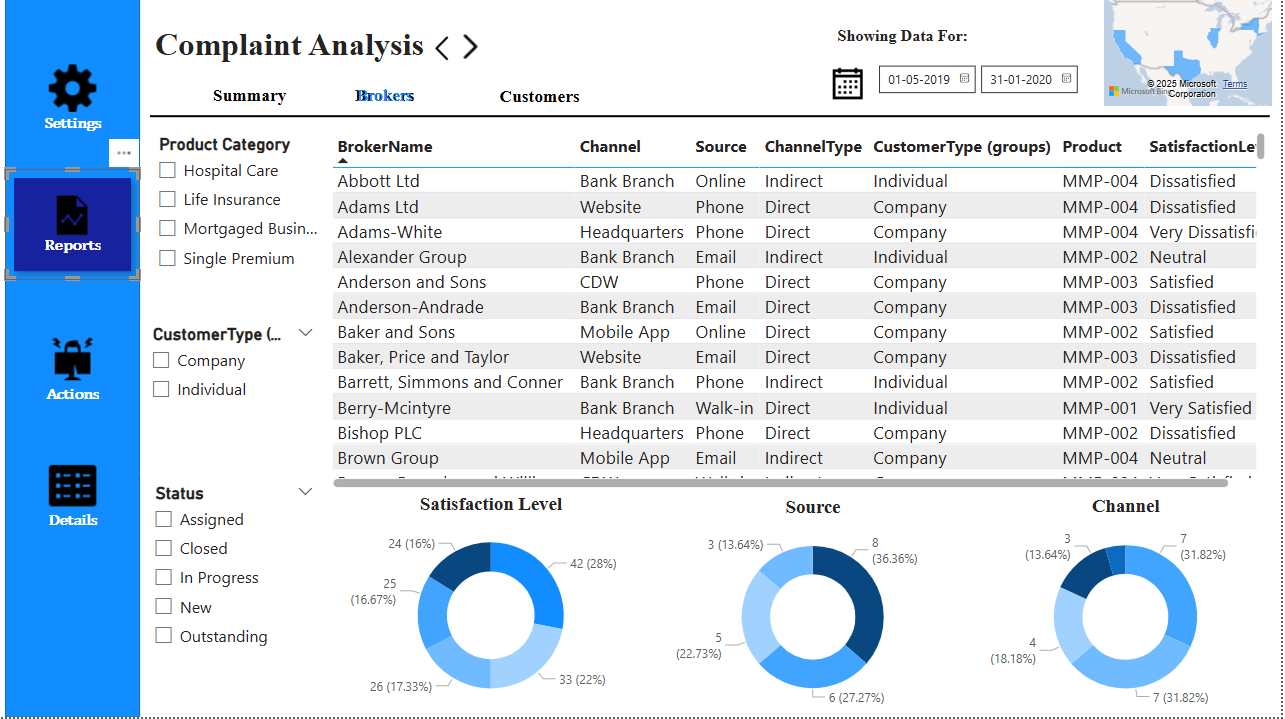

The dashboard page shown, as its layout file describes it:
{"tool":"powerbi","page":{"name":"Brokers","canvas":[1280,720],"ordinal":4},"visuals":[{"type":"shape","box":[9.6,0,134.5,720.4],"z":0},{"type":"actionButton","box":[176.4,80,153.7,41.2],"z":0,"group":"g2"},{"type":"actionButton","box":[177,81,153.7,41.2],"z":0,"group":"g1"},{"type":"textbox","box":[153.7,26.1,289.5,64.5],"z":1000},{"type":"actionButton","box":[310.9,80,153.7,41.2],"z":1000,"group":"g2"},{"type":"actionButton","box":[311.5,81,153.7,41.2],"z":1000,"group":"g1"},{"type":"textbox","box":[915.3,42.5,365,48],"z":2000},{"type":"actionButton","box":[464.6,81.4,153.7,41.2],"z":2000,"group":"g2"},{"type":"actionButton","box":[465.2,82.4,153.7,41.2],"z":2000,"group":"g1"},{"type":"slicer","fields":{"Values":["Sheet1.ComplaintDate"]},"box":[949.6,70,227.8,53.5],"z":3000},{"type":"shape","box":[154.3,110,1114.3,24.3],"z":4000},{"type":"donutChart","title":"Satisfaction Level","fields":{"Category":["Sheet1.SatisfactionLevel"],"Y":["CountNonNull(Sheet1.SatisfactionLevel)"]},"box":[328.2,496.4,330.3,223.6],"z":5000},{"type":"donutChart","title":"Source","fields":{"Category":["Sheet1.Source"],"Y":["CountNonNull(Sheet1.Source)"]},"box":[658.5,500.5,311.8,219.5],"z":6000},{"type":"donutChart","title":"Channel","fields":{"Category":["Sheet1.Channel"],"Y":["CountNonNull(Sheet1.Channel)"]},"box":[970.3,498.5,309.7,221.5],"z":7000},{"type":"filledMap","fields":{"Category":["Sheet1.State"]},"box":[1097.4,0,178.5,80],"z":8000},{"type":"group","id":"g1","title":"Group 1","box":[177,81,441.9,42.5],"z":9000},{"type":"group","id":"g2","title":"Group 1","box":[176.4,80,441,41],"z":10000},{"type":"image","box":[914.9,71.8,53.3,45.1],"z":11000},{"type":"slicer","fields":{"Values":["Sheet1.Status"]},"box":[147.3,482,182.1,238.3],"z":12000},{"type":"slicer","fields":{"Values":["Sheet1.CustomerType (groups)"]},"box":[144.6,324,184.8,158],"z":13000},{"type":"slicer","fields":{"Values":["Sheet1.Product Category"]},"box":[150,133.9,179.4,190.1],"z":14000},{"type":"tableEx","fields":{"Values":["Sheet1.BrokerName","Sheet1.Channel","Sheet1.Source","Sheet1.ChannelType","Sheet1.CustomerType (groups)","Sheet1.Product","Sheet1.SatisfactionLevel"]},"box":[330.3,133.3,939.5,363.1],"z":15000},{"type":"actionButton","box":[10,47.3,134.3,110.7],"z":16000},{"type":"actionButton","box":[10,181.6,134.3,110.7],"z":17000},{"type":"actionButton","box":[10,317.2,134.3,110.7],"z":18000},{"type":"actionButton","box":[10,442.8,134.3,110.7],"z":19000}]}

Visuals, with their boxes on the page's 1280x720 design canvas (x1, y1, x2, y2). These are canvas units, not pixel positions in the 1285x719 screenshot, which may show the page scaled, cropped or inside an application window:
shape: (left=10, top=0, right=144, bottom=720)
actionButton: (left=176, top=80, right=330, bottom=121)
actionButton: (left=177, top=81, right=331, bottom=122)
textbox: (left=154, top=26, right=443, bottom=91)
actionButton: (left=311, top=80, right=465, bottom=121)
actionButton: (left=312, top=81, right=465, bottom=122)
textbox: (left=915, top=42, right=1280, bottom=90)
actionButton: (left=465, top=81, right=618, bottom=123)
actionButton: (left=465, top=82, right=619, bottom=124)
slicer - Sheet1.ComplaintDate: (left=950, top=70, right=1177, bottom=124)
shape: (left=154, top=110, right=1269, bottom=134)
"Satisfaction Level" donutChart: (left=328, top=496, right=658, bottom=720)
"Source" donutChart: (left=658, top=500, right=970, bottom=720)
"Channel" donutChart: (left=970, top=498, right=1280, bottom=720)
filledMap - Sheet1.State: (left=1097, top=0, right=1276, bottom=80)
"Group 1" group: (left=177, top=81, right=619, bottom=124)
"Group 1" group: (left=176, top=80, right=617, bottom=121)
image: (left=915, top=72, right=968, bottom=117)
slicer - Sheet1.Status: (left=147, top=482, right=329, bottom=720)
slicer - Sheet1.CustomerType (groups): (left=145, top=324, right=329, bottom=482)
slicer - Sheet1.Product Category: (left=150, top=134, right=329, bottom=324)
tableEx - Sheet1.BrokerName x Sheet1.Channel: (left=330, top=133, right=1270, bottom=496)
actionButton: (left=10, top=47, right=144, bottom=158)
actionButton: (left=10, top=182, right=144, bottom=292)
actionButton: (left=10, top=317, right=144, bottom=428)
actionButton: (left=10, top=443, right=144, bottom=554)
